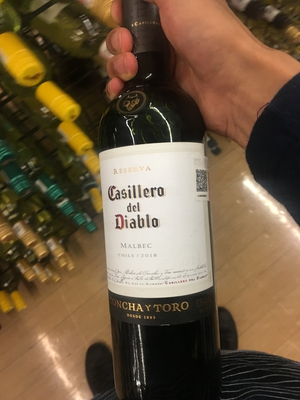casillero del diablo malbec: (93, 29, 228, 400)
